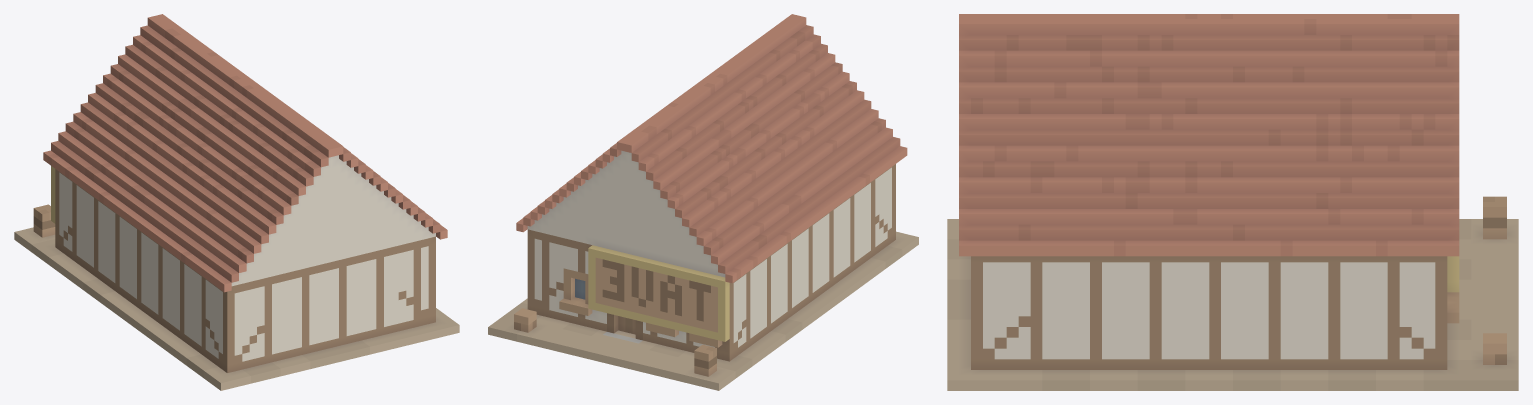
Rendered from tavern.glb.
3 views of the same model, side by side, from view 1: azimuth 30°, elevation 25°; view 2: azimuth 150°, elevation 25°; view 3: azimuth 270°, elevation 25° (orthographic). The views are drawn at different scales.
Visible parts, largest first — view 1: tavern; view 2: tavern; view 3: tavern.
Boxes of the visible parts, <box> form: tavern: <box>14,14,459,390</box>; tavern: <box>488,14,918,390</box>; tavern: <box>947,14,1518,390</box>.
Bounding box in the file's own units: 4 × 3.38 × 6.
